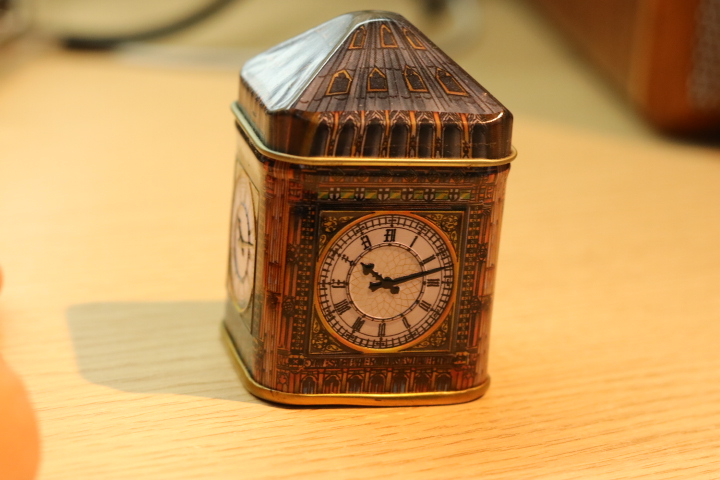Big Ben: (213, 6, 525, 422)
